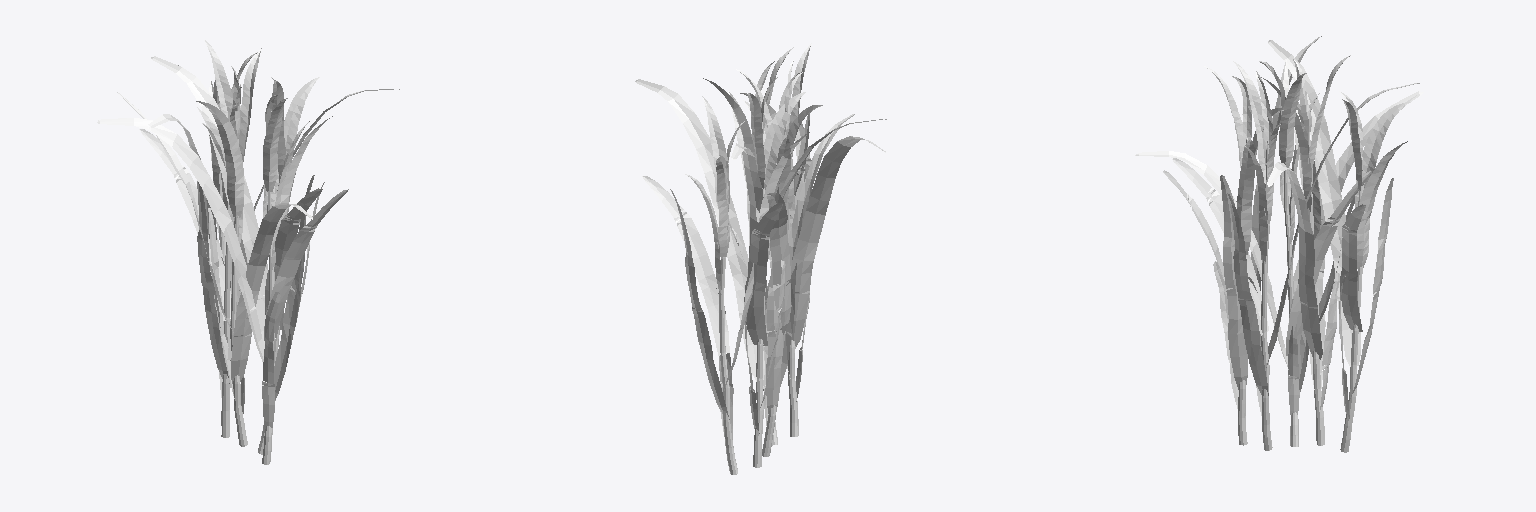
The picture shows the model from 3 angles: view 1: azimuth 30°, elevation 25°; view 2: azimuth 150°, elevation 25°; view 3: azimuth 270°, elevation 25°; orthographic projection.
Visible parts, largest first — view 1: AG01_3; view 2: AG01_3; view 3: AG01_3.
Part boxes in pixels (x1,y1,x2,y2): AG01_3: (97,40,399,464); AG01_3: (635,43,886,474); AG01_3: (1135,36,1423,452).
Size of the model in its own units: 0.248 by 0.3315 by 0.2234.